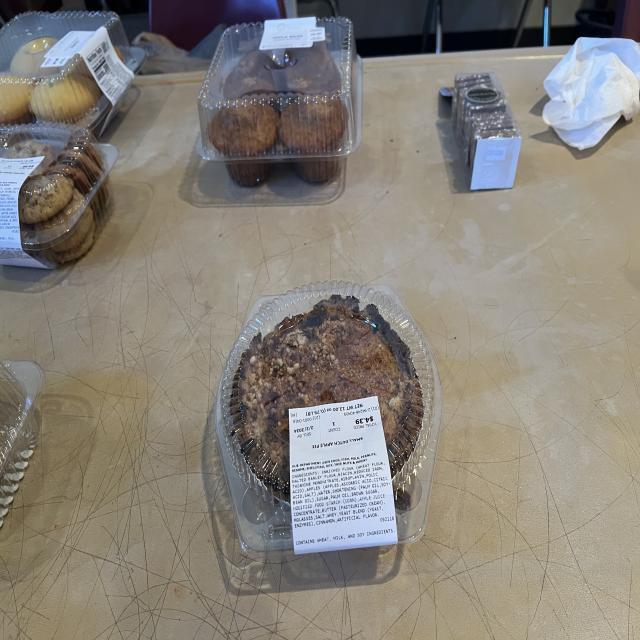Bread: (215, 282, 441, 555), (198, 17, 362, 185), (0, 12, 145, 137), (0, 123, 118, 268), (452, 73, 521, 190)
